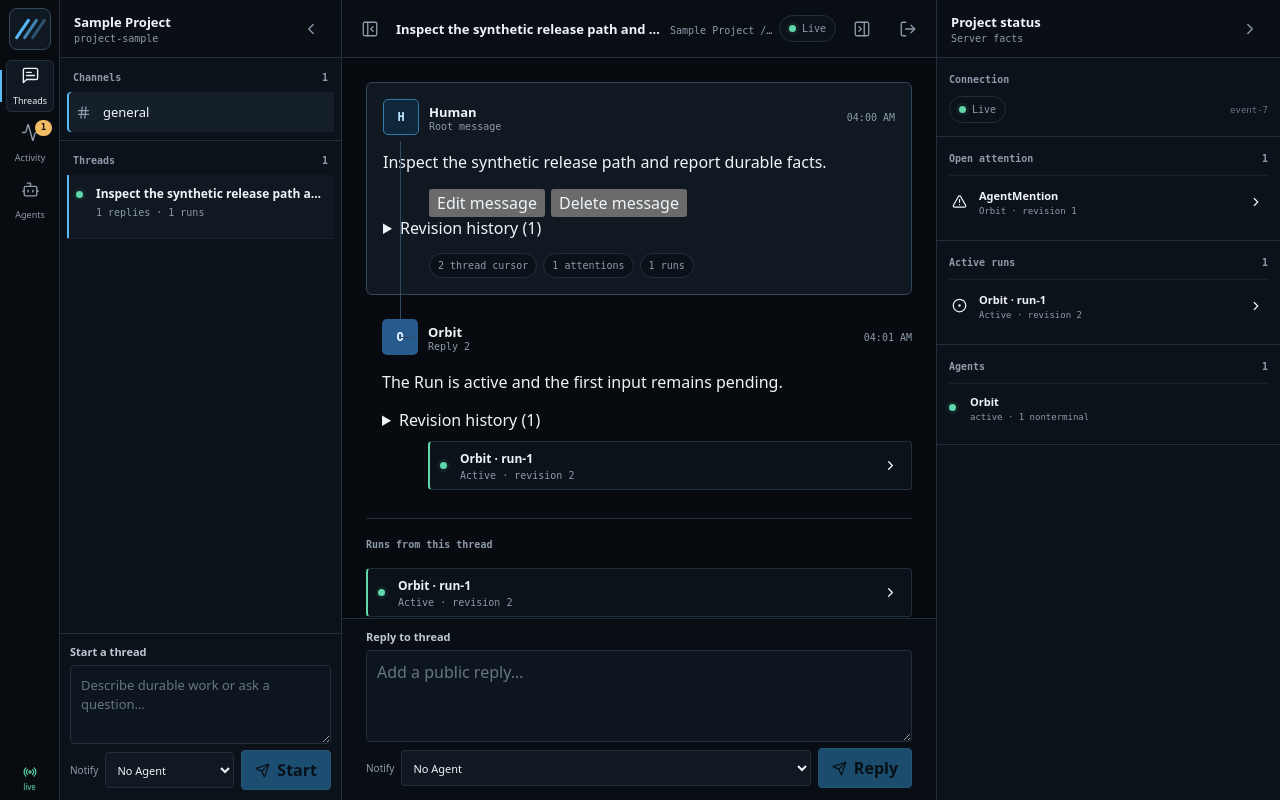
TorsorApp › keeps an initial definite Message conflict out of unknown recovery
Click the button "Edit message": [487, 203] box [429,189,545,217]
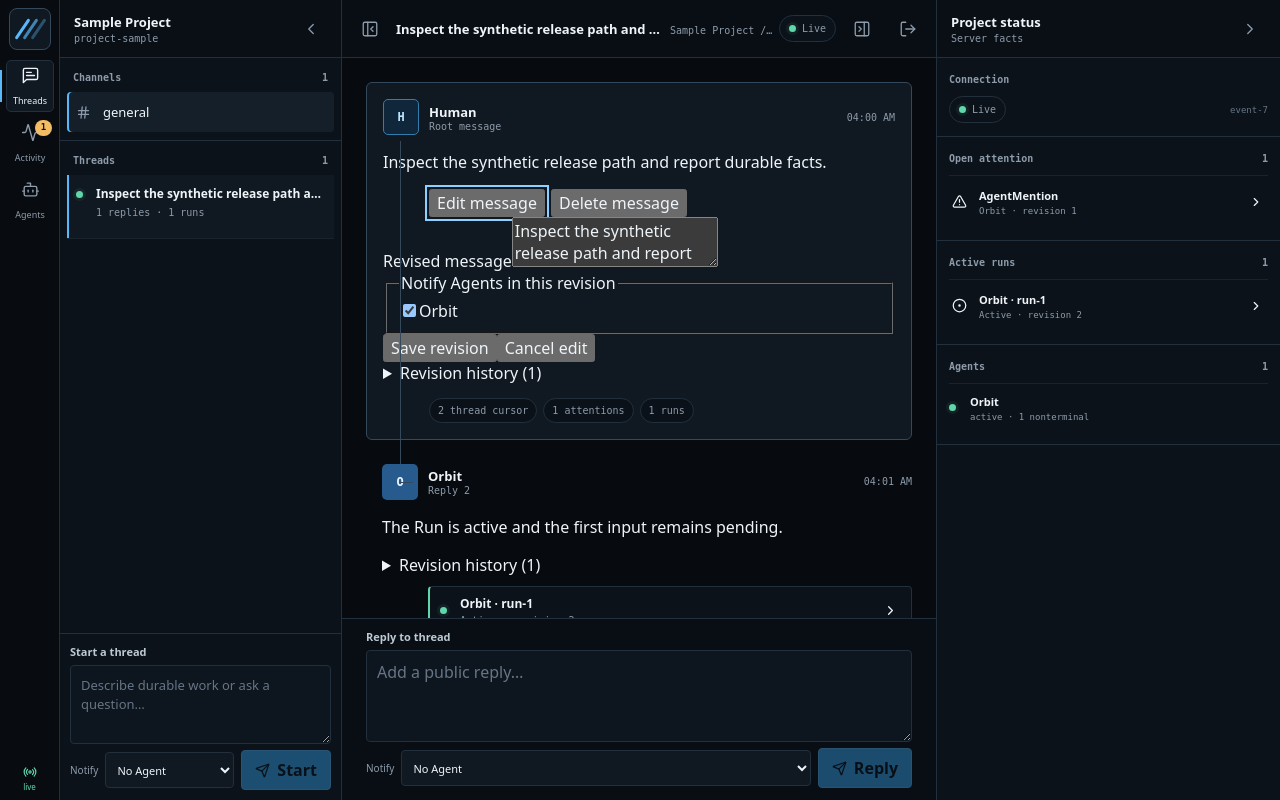
Click the button "Save revision": [440, 348] box [383,334,497,362]
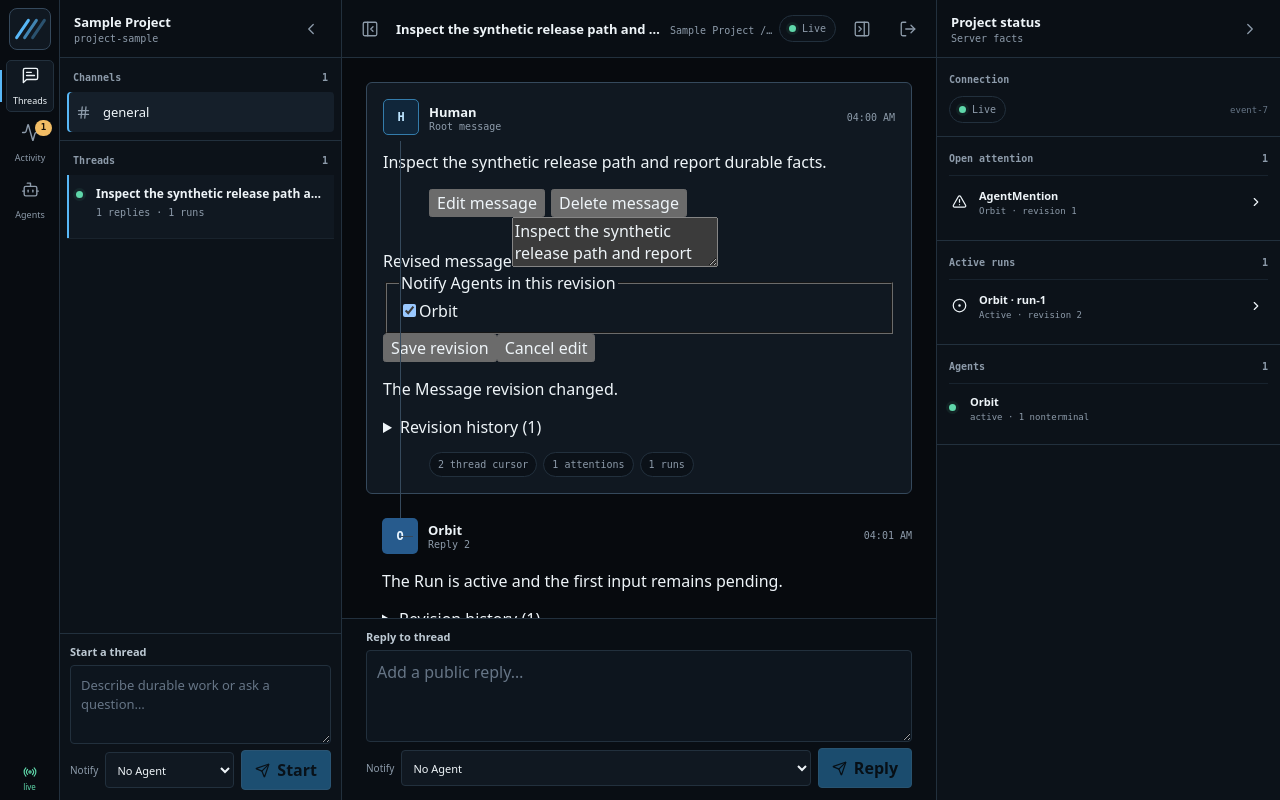
Result: the message reads "The Message revision changed." at [383,378,618,400]
